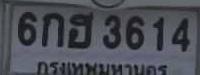1: (152, 16, 163, 50)
3: (102, 14, 120, 48)
4: (171, 17, 188, 51)
6: (17, 11, 36, 45), (125, 15, 143, 49)
A01: (41, 12, 63, 46)
A44: (67, 11, 93, 48)
BKK: (35, 59, 170, 75)
